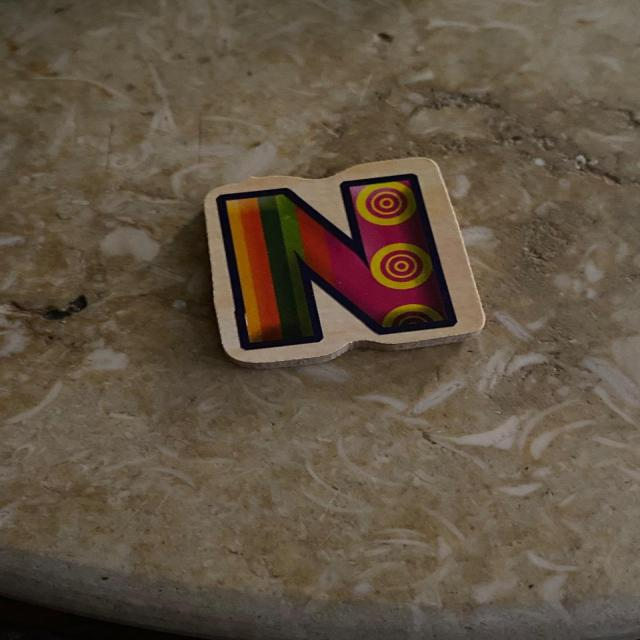N: (205, 157, 484, 367)
